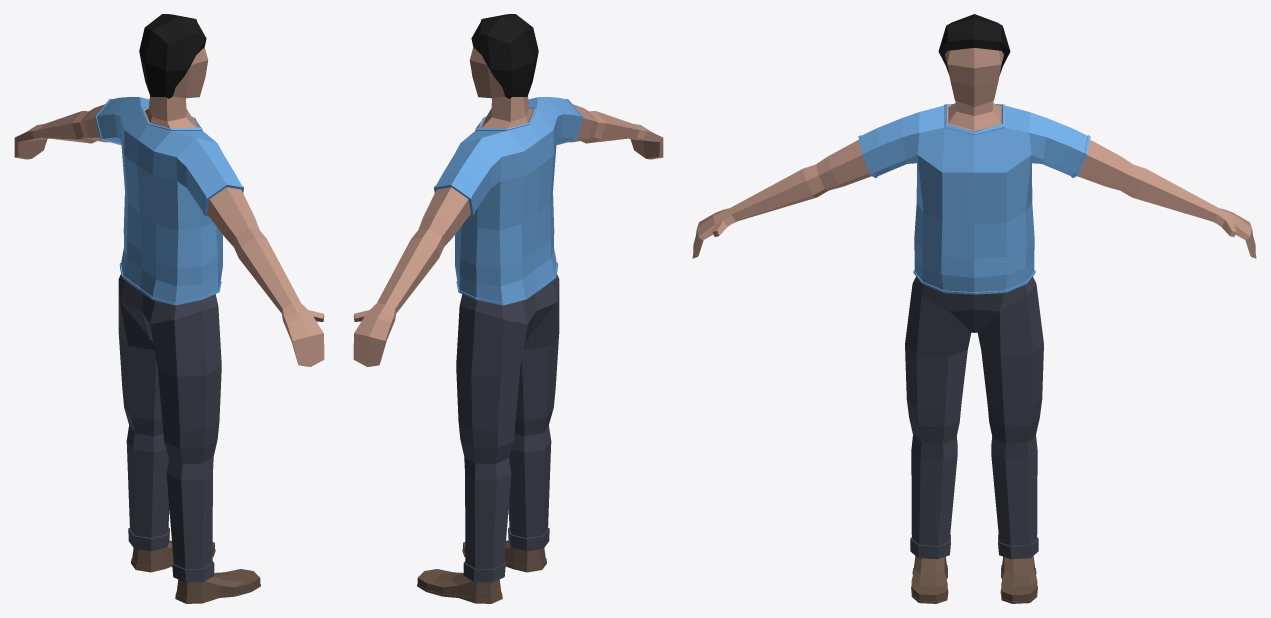
Rendered from male.glb.
3 renders of one model, left to right at view 1: azimuth 30°, elevation 25°; view 2: azimuth 150°, elevation 25°; view 3: azimuth 270°, elevation 25°, orthographic.
Parts seen in each view (by area): view 1: Male; view 2: Male; view 3: Male.
Boxes of the visible parts, bbox=[...] form: Male: bbox=[14, 14, 324, 603]; Male: bbox=[353, 14, 663, 603]; Male: bbox=[692, 14, 1256, 603].
Bounding box in the file's own units: 0.4641 × 2.5 × 2.3.
